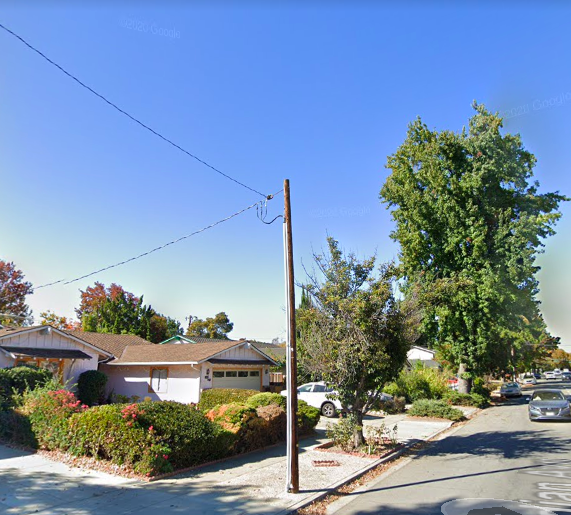utility_pole: (248, 172, 297, 232)
